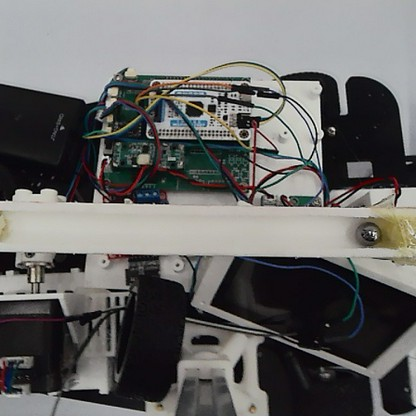ironball: (353, 219, 380, 248)
